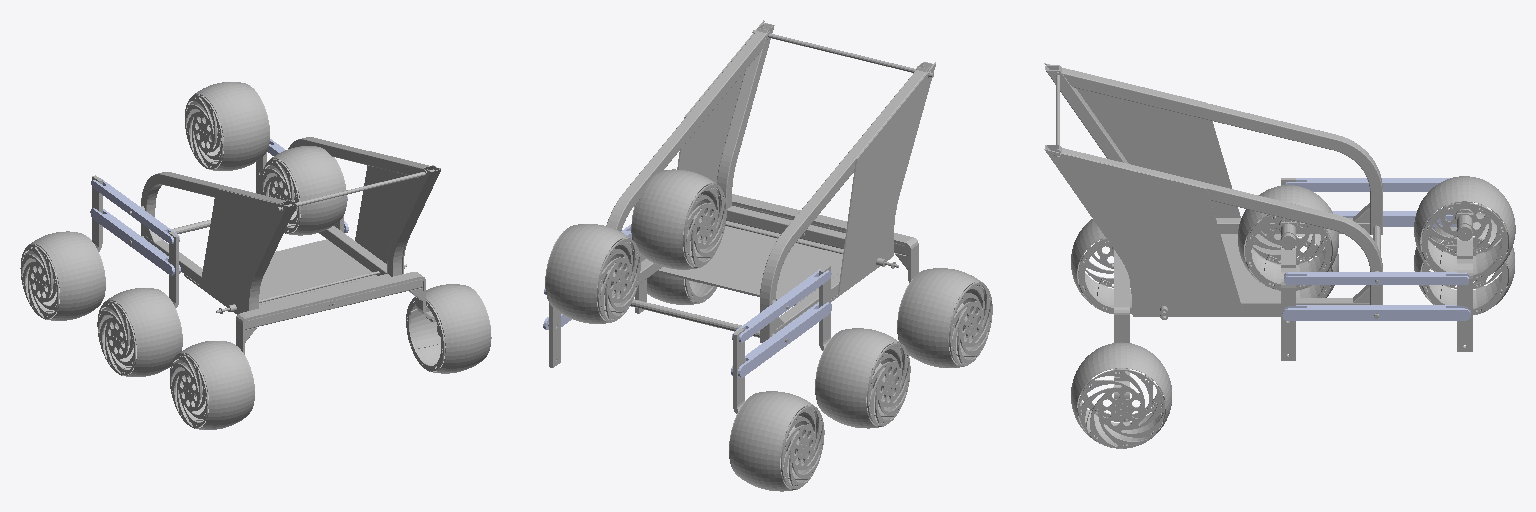
URDF robot description (rmc_simulation):
<robot
  name="rmc_simulation">
  <link
    name="base_link">
    <inertial>
      <origin
        xyz="0.0718949334793627 -0.601542299438927 0.318447910771171"
        rpy="0 0 0" />
      <mass
        value="2.92938025647035" />
      <inertia
        ixx="0.148284038285749"
        ixy="7.06981150223383E-05"
        ixz="-1.1635087974078E-05"
        iyy="0.131065614800033"
        iyz="-0.0298492505471701"
        izz="0.188823271201836" />
    </inertial>
    <visual>
      <origin
        xyz="0 0 0"
        rpy="0 0 0" />
      <geometry>
        <mesh
          filename="package://rmc_simulation/meshes/base_link.STL" />
      </geometry>
      <material
        name="">
        <color
          rgba="0.752941176470588 0.752941176470588 0.752941176470588 1" />
      </material>
    </visual>
    <collision>
      <origin
        xyz="0 0 0"
        rpy="0 0 0" />
      <geometry>
        <mesh
          filename="package://rmc_simulation/meshes/base_link.STL" />
      </geometry>
    </collision>
  </link>
  <link
    name="right_top_link">
    <inertial>
      <origin
        xyz="0.0111125 0 -5.55111512312578E-17"
        rpy="0 0 0" />
      <mass
        value="0.140248807038419" />
      <inertia
        ixx="0.0013793844509538"
        ixy="-1.37422248113498E-22"
        ixz="-1.0229964394016E-20"
        iyy="0.00138147619717869"
        iyz="2.9555073229172E-21"
        izz="1.05253601903843E-05" />
    </inertial>
    <visual>
      <origin
        xyz="0 0 0"
        rpy="0 0 0" />
      <geometry>
        <mesh
          filename="package://rmc_simulation/meshes/right_top_link.STL" />
      </geometry>
      <material
        name="">
        <color
          rgba="0.792156862745098 0.819607843137255 0.933333333333333 1" />
      </material>
    </visual>
    <collision>
      <origin
        xyz="0 0 0"
        rpy="0 0 0" />
      <geometry>
        <mesh
          filename="package://rmc_simulation/meshes/right_top_link.STL" />
      </geometry>
    </collision>
  </link>
  <joint
    name="right_top_joint"
    type="continuous">
    <origin
      xyz="0.284580691374717 -0.255807756916524 0.293855987376602"
      rpy="1.5707963267949 0 0" />
    <parent
      link="base_link" />
    <child
      link="right_top_link" />
    <axis
      xyz="-1 0 0" />
  </joint>
  <link
    name="right_bot_link">
    <inertial>
      <origin
        xyz="0.0111125 2.77555756156289E-17 0"
        rpy="0 0 0" />
      <mass
        value="0.188515035012426" />
      <inertia
        ixx="0.00191750304531622"
        ixy="-7.07169104051599E-22"
        ixz="-9.82756479552797E-21"
        iyy="0.00191593922101045"
        iyz="-2.59045677249677E-07"
        izz="1.85554120830071E-05" />
    </inertial>
    <visual>
      <origin
        xyz="0 0 0"
        rpy="0 0 0" />
      <geometry>
        <mesh
          filename="package://rmc_simulation/meshes/right_bot_link.STL" />
      </geometry>
      <material
        name="">
        <color
          rgba="0.792156862745098 0.819607843137255 0.933333333333333 1" />
      </material>
    </visual>
    <collision>
      <origin
        xyz="0 0 0"
        rpy="0 0 0" />
      <geometry>
        <mesh
          filename="package://rmc_simulation/meshes/right_bot_link.STL" />
      </geometry>
    </collision>
  </link>
  <joint
    name="right_bot_joint"
    type="continuous">
    <origin
      xyz="0.284580691374717 -0.255807756916524 0.217655987376602"
      rpy="1.5707963267949 0 0" />
    <parent
      link="base_link" />
    <child
      link="right_bot_link" />
    <axis
      xyz="-1 0 0" />
  </joint>
  <link
    name="right_bot_front_link">
    <inertial>
      <origin
        xyz="-4.78510997409254E-05 0.0863040619939952 0.0706954067970946"
        rpy="0 0 0" />
      <mass
        value="0.205851705946841" />
      <inertia
        ixx="0.00120412689390073"
        ixy="-4.21030315945692E-07"
        ixz="-2.31693328808594E-07"
        iyy="0.000482537939948245"
        iyz="0.000461296988031476"
        izz="0.000755248105263728" />
    </inertial>
    <visual>
      <origin
        xyz="0 0 0"
        rpy="0 0 0" />
      <geometry>
        <mesh
          filename="package://rmc_simulation/meshes/right_bot_front_link.STL" />
      </geometry>
      <material
        name="">
        <color
          rgba="0.752941176470588 0.752941176470588 0.752941176470588 1" />
      </material>
    </visual>
    <collision>
      <origin
        xyz="0 0 0"
        rpy="0 0 0" />
      <geometry>
        <mesh
          filename="package://rmc_simulation/meshes/right_bot_front_link.STL" />
      </geometry>
    </collision>
  </link>
  <joint
    name="right_bot_front_joint"
    type="continuous">
    <origin
      xyz="0.00634999999999997 0 -0.1778"
      rpy="0 -1.5707963267949 0" />
    <parent
      link="right_bot_link" />
    <child
      link="right_bot_front_link" />
    <axis
      xyz="0 0 -1" />
  </joint>
  <link
    name="right_front_wheel_link">
    <inertial>
      <origin
        xyz="-7.19148351979726E-12 -0.0807951640907281 -1.95886141418633E-07"
        rpy="0 0 0" />
      <mass
        value="0.687645998614542" />
      <inertia
        ixx="0.00410397321446005"
        ixy="1.9406880771611E-13"
        ixz="1.05931168581396E-14"
        iyy="0.00552463397717715"
        iyz="5.39169464344202E-09"
        izz="0.00410397301758295" />
    </inertial>
    <visual>
      <origin
        xyz="0 0 0"
        rpy="0 0 0" />
      <geometry>
        <mesh
          filename="package://rmc_simulation/meshes/right_front_wheel_link.STL" />
      </geometry>
      <material
        name="">
        <color
          rgba="0.752941176470588 0.752941176470588 0.752941176470588 1" />
      </material>
    </visual>
    <collision>
      <origin
        xyz="0 0 0"
        rpy="0 0 0" />
      <geometry>
        <mesh
          filename="package://rmc_simulation/meshes/right_front_wheel_link.STL" />
      </geometry>
    </collision>
  </link>
  <joint
    name="right_front_wheel_joint"
    type="continuous">
    <origin
      xyz="-7.49910081595945E-05 0.139800709316761 0.0220624999999998"
      rpy="-1.5707963267949 0 -1.56862653893505" />
    <parent
      link="right_bot_front_link" />
    <child
      link="right_front_wheel_link" />
    <axis
      xyz="0 1 0" />
  </joint>
  <link
    name="right_bot_back_link">
    <inertial>
      <origin
        xyz="1.92852696755397E-05 0.0763283477484565 0.0706954067970945"
        rpy="0 0 0" />
      <mass
        value="0.205851705946841" />
      <inertia
        ixx="0.0012041271123401"
        ixy="1.40153636767863E-07"
        ixz="1.27059891569488E-07"
        iyy="0.000482537721508873"
        iyz="0.000461297028718476"
        izz="0.000755248105263728" />
    </inertial>
    <visual>
      <origin
        xyz="0 0 0"
        rpy="0 0 0" />
      <geometry>
        <mesh
          filename="package://rmc_simulation/meshes/right_bot_back_link.STL" />
      </geometry>
      <material
        name="">
        <color
          rgba="0.752941176470588 0.752941176470588 0.752941176470588 1" />
      </material>
    </visual>
    <collision>
      <origin
        xyz="0 0 0"
        rpy="0 0 0" />
      <geometry>
        <mesh
          filename="package://rmc_simulation/meshes/right_bot_back_link.STL" />
      </geometry>
    </collision>
  </link>
  <joint
    name="right_bot_back_link"
    type="continuous">
    <origin
      xyz="0.00635000000000019 -0.0100242746459153 0.177799998342918"
      rpy="0 -1.5707963267949 0" />
    <parent
      link="right_bot_link" />
    <child
      link="right_bot_back_link" />
    <axis
      xyz="0 0 -1" />
  </joint>
  <link
    name="right_mid_wheel_link">
    <inertial>
      <origin
        xyz="-7.30705773666074E-12 -0.080795164091348 -1.95886142140278E-07"
        rpy="0 0 0" />
      <mass
        value="0.687645998625396" />
      <inertia
        ixx="0.00410397321447679"
        ixy="1.97149247814043E-13"
        ixz="1.06927135331766E-14"
        iyy="0.00552463397717738"
        iyz="5.39169467314103E-09"
        izz="0.00410397301759993" />
    </inertial>
    <visual>
      <origin
        xyz="0 0 0"
        rpy="0 0 0" />
      <geometry>
        <mesh
          filename="package://rmc_simulation/meshes/right_mid_wheel_link.STL" />
      </geometry>
      <material
        name="">
        <color
          rgba="0.752941176470588 0.752941176470588 0.752941176470588 1" />
      </material>
    </visual>
    <collision>
      <origin
        xyz="0 0 0"
        rpy="0 0 0" />
      <geometry>
        <mesh
          filename="package://rmc_simulation/meshes/right_mid_wheel_link.STL" />
      </geometry>
    </collision>
  </link>
  <joint
    name="right_mid_wheel_link"
    type="continuous">
    <origin
      xyz="3.37499999999435E-05 0.129825 0.0220624999999998"
      rpy="-1.5707963267949 0 -1.5707963267949" />
    <parent
      link="right_bot_back_link" />
    <child
      link="right_mid_wheel_link" />
    <axis
      xyz="0 1 0" />
  </joint>
  <link
    name="left_top_link">
    <inertial>
      <origin
        xyz="-0.0111125 -5.55111512312578E-17 0"
        rpy="0 0 0" />
      <mass
        value="0.140248807038419" />
      <inertia
        ixx="0.0013793844509538"
        ixy="-1.28023408403359E-22"
        ixz="7.25850987515281E-21"
        iyy="0.00138147619717869"
        iyz="4.32209407936441E-22"
        izz="1.05253601903843E-05" />
    </inertial>
    <visual>
      <origin
        xyz="0 0 0"
        rpy="0 0 0" />
      <geometry>
        <mesh
          filename="package://rmc_simulation/meshes/left_top_link.STL" />
      </geometry>
      <material
        name="">
        <color
          rgba="0.792156862745098 0.819607843137255 0.933333333333333 1" />
      </material>
    </visual>
    <collision>
      <origin
        xyz="0 0 0"
        rpy="0 0 0" />
      <geometry>
        <mesh
          filename="package://rmc_simulation/meshes/left_top_link.STL" />
      </geometry>
    </collision>
  </link>
  <joint
    name="left_top_joint"
    type="continuous">
    <origin
      xyz="-0.140869308625283 -0.255807756916524 0.293855987376602"
      rpy="1.5707963267949 0 0" />
    <parent
      link="base_link" />
    <child
      link="left_top_link" />
    <axis
      xyz="-1 0 0" />
  </joint>
  <link
    name="left_bot_link">
    <inertial>
      <origin
        xyz="-0.0111125 -2.77555756156289E-17 0"
        rpy="0 0 0" />
      <mass
        value="0.188515035012425" />
      <inertia
        ixx="0.00191750304531621"
        ixy="4.77528354719375E-22"
        ixz="1.41434929247504E-20"
        iyy="0.00191593925637738"
        iyz="4.20246699851112E-21"
        izz="1.85553767160658E-05" />
    </inertial>
    <visual>
      <origin
        xyz="0 0 0"
        rpy="0 0 0" />
      <geometry>
        <mesh
          filename="package://rmc_simulation/meshes/left_bot_link.STL" />
      </geometry>
      <material
        name="">
        <color
          rgba="0.792156862745098 0.819607843137255 0.933333333333333 1" />
      </material>
    </visual>
    <collision>
      <origin
        xyz="0 0 0"
        rpy="0 0 0" />
      <geometry>
        <mesh
          filename="package://rmc_simulation/meshes/left_bot_link.STL" />
      </geometry>
    </collision>
  </link>
  <joint
    name="left_bot_joint"
    type="continuous">
    <origin
      xyz="-0.140869308625283 -0.255807756916524 0.217655987376601"
      rpy="1.5707963267949 0 0" />
    <parent
      link="base_link" />
    <child
      link="left_bot_link" />
    <axis
      xyz="-1 0 0" />
  </joint>
  <link
    name="left_bot_front_link">
    <inertial>
      <origin
        xyz="1.92852696755674E-05 -0.0863283477484565 -0.0706954067970945"
        rpy="0 0 0" />
      <mass
        value="0.205851705946841" />
      <inertia
        ixx="0.0012041271123401"
        ixy="-1.40153636768476E-07"
        ixz="-1.27059891570206E-07"
        iyy="0.000482537721508874"
        iyz="0.000461297028718476"
        izz="0.000755248105263727" />
    </inertial>
    <visual>
      <origin
        xyz="0 0 0"
        rpy="0 0 0" />
      <geometry>
        <mesh
          filename="package://rmc_simulation/meshes/left_bot_front_link.STL" />
      </geometry>
      <material
        name="">
        <color
          rgba="0.752941176470588 0.752941176470588 0.752941176470588 1" />
      </material>
    </visual>
    <collision>
      <origin
        xyz="0 0 0"
        rpy="0 0 0" />
      <geometry>
        <mesh
          filename="package://rmc_simulation/meshes/left_bot_front_link.STL" />
      </geometry>
    </collision>
  </link>
  <joint
    name="left_bot_front_joiny"
    type="continuous">
    <origin
      xyz="-0.00634999999999999 0 -0.1778"
      rpy="0 1.5707963267949 0" />
    <parent
      link="left_bot_link" />
    <child
      link="left_bot_front_link" />
    <axis
      xyz="0 0 -1" />
  </joint>
  <link
    name="left_front_wheel_link">
    <inertial>
      <origin
        xyz="-7.30697446993389E-12 -0.0707951640913485 -1.95886142154156E-07"
        rpy="0 0 0" />
      <mass
        value="0.687645998625407" />
      <inertia
        ixx="0.00410397321447676"
        ixy="1.97154492642053E-13"
        ixz="1.06920765644003E-14"
        iyy="0.00552463397717734"
        iyz="5.39169467474277E-09"
        izz="0.0041039730175999" />
    </inertial>
    <visual>
      <origin
        xyz="0 0 0"
        rpy="0 0 0" />
      <geometry>
        <mesh
          filename="package://rmc_simulation/meshes/left_front_wheel_link.STL" />
      </geometry>
      <material
        name="">
        <color
          rgba="0.752941176470588 0.752941176470588 0.752941176470588 1" />
      </material>
    </visual>
    <collision>
      <origin
        xyz="0 0 0"
        rpy="0 0 0" />
      <geometry>
        <mesh
          filename="package://rmc_simulation/meshes/left_front_wheel_link.STL" />
      </geometry>
    </collision>
  </link>
  <joint
    name="left_front_wheel_joint"
    type="continuous">
    <origin
      xyz="3.37500000000129E-05 -0.139825 -0.0320624999999999"
      rpy="1.5707963267949 0 -1.5707963267949" />
    <parent
      link="left_bot_front_link" />
    <child
      link="left_front_wheel_link" />
    <axis
      xyz="0 -1 0" />
  </joint>
  <link
    name="left_bot_back_link">
    <inertial>
      <origin
        xyz="1.92852696753731E-05 -0.0863283477484563 -0.0548204067970946"
        rpy="0 0 0" />
      <mass
        value="0.205851705946841" />
      <inertia
        ixx="0.0012041271123401"
        ixy="-1.40153636768493E-07"
        ixz="-1.27059891570303E-07"
        iyy="0.000482537721508874"
        iyz="0.000461297028718476"
        izz="0.000755248105263727" />
    </inertial>
    <visual>
      <origin
        xyz="0 0 0"
        rpy="0 0 0" />
      <geometry>
        <mesh
          filename="package://rmc_simulation/meshes/left_bot_back_link.STL" />
      </geometry>
      <material
        name="">
        <color
          rgba="0.752941176470588 0.752941176470588 0.752941176470588 1" />
      </material>
    </visual>
    <collision>
      <origin
        xyz="0 0 0"
        rpy="0 0 0" />
      <geometry>
        <mesh
          filename="package://rmc_simulation/meshes/left_bot_back_link.STL" />
      </geometry>
    </collision>
  </link>
  <joint
    name="left_bot_back_joint"
    type="continuous">
    <origin
      xyz="-0.022225 0 0.1778"
      rpy="0 1.5707963267949 0" />
    <parent
      link="left_bot_link" />
    <child
      link="left_bot_back_link" />
    <axis
      xyz="0 0 -1" />
  </joint>
  <link
    name="left_mid_wheel_link">
    <inertial>
      <origin
        xyz="-7.30700222550951E-12 -0.0707951640913484 -1.958861422513E-07"
        rpy="0 0 0" />
      <mass
        value="0.687645998625407" />
      <inertia
        ixx="0.00410397321447676"
        ixy="1.97154431655681E-13"
        ixz="1.06915751208955E-14"
        iyy="0.00552463397717734"
        iyz="5.39169467347561E-09"
        izz="0.0041039730175999" />
    </inertial>
    <visual>
      <origin
        xyz="0 0 0"
        rpy="0 0 0" />
      <geometry>
        <mesh
          filename="package://rmc_simulation/meshes/left_mid_wheel_link.STL" />
      </geometry>
      <material
        name="">
        <color
          rgba="0.752941176470588 0.752941176470588 0.752941176470588 1" />
      </material>
    </visual>
    <collision>
      <origin
        xyz="0 0 0"
        rpy="0 0 0" />
      <geometry>
        <mesh
          filename="package://rmc_simulation/meshes/left_mid_wheel_link.STL" />
      </geometry>
    </collision>
  </link>
  <joint
    name="left_mid_wheel_joint"
    type="continuous">
    <origin
      xyz="3.37499999999991E-05 -0.139825 -0.0161874999999997"
      rpy="1.5707963267949 0 -1.5707963267949" />
    <parent
      link="left_bot_back_link" />
    <child
      link="left_mid_wheel_link" />
    <axis
      xyz="0 -1 0" />
  </joint>
  <link
    name="rear_rocker_link">
    <inertial>
      <origin
        xyz="0.000471476921990954 -0.0411045723457843 0.0167424675311085"
        rpy="0 0 0" />
      <mass
        value="0.807447449120922" />
      <inertia
        ixx="0.00288385629063271"
        ixy="-1.83210203696015E-05"
        ixz="-8.95562507782881E-08"
        iyy="0.0397756072740224"
        iyz="3.0326788227366E-06"
        izz="0.0425282327121755" />
    </inertial>
    <visual>
      <origin
        xyz="0 0 0"
        rpy="0 0 0" />
      <geometry>
        <mesh
          filename="package://rmc_simulation/meshes/rear_rocker_link.STL" />
      </geometry>
      <material
        name="">
        <color
          rgba="0.752941176470588 0.752941176470588 0.752941176470588 1" />
      </material>
    </visual>
    <collision>
      <origin
        xyz="0 0 0"
        rpy="0 0 0" />
      <geometry>
        <mesh
          filename="package://rmc_simulation/meshes/rear_rocker_link.STL" />
      </geometry>
    </collision>
  </link>
  <joint
    name="rear_rocker_joint"
    type="continuous">
    <origin
      xyz="0.0718556913747171 -0.753476605505062 0.217655987376602"
      rpy="1.5707963267949 0.00495690235833587 -3.03515192047388E-19" />
    <parent
      link="base_link" />
    <child
      link="rear_rocker_link" />
    <axis
      xyz="0 0 -1" />
  </joint>
  <link
    name="right_back_wheel_link">
    <inertial>
      <origin
        xyz="-2.56872301207522E-12 -0.0707920435844435 -1.95886293075098E-07"
        rpy="0 0 0" />
      <mass
        value="0.687645998094418" />
      <inertia
        ixx="0.00410397321363925"
        ixy="7.41435784989461E-14"
        ixz="7.32562881883281E-15"
        iyy="0.00552463397716753"
        iyz="5.39170125791232E-09"
        izz="0.00410397301675641" />
    </inertial>
    <visual>
      <origin
        xyz="0 0 0"
        rpy="0 0 0" />
      <geometry>
        <mesh
          filename="package://rmc_simulation/meshes/right_back_wheel_link.STL" />
      </geometry>
      <material
        name="">
        <color
          rgba="0.752941176470588 0.752941176470588 0.752941176470588 1" />
      </material>
    </visual>
    <collision>
      <origin
        xyz="0 0 0"
        rpy="0 0 0" />
      <geometry>
        <mesh
          filename="package://rmc_simulation/meshes/right_back_wheel_link.STL" />
      </geometry>
    </collision>
  </link>
  <joint
    name="right_back_wheel_joint"
    type="continuous">
    <origin
      xyz="0.252042320476328 -0.1397615 0.0166474014114616"
      rpy="0 -0.453755397525004 1.5707963267949" />
    <parent
      link="rear_rocker_link" />
    <child
      link="right_back_wheel_link" />
    <axis
      xyz="0 1 0" />
  </joint>
  <link
    name="left_back_wheel_link">
    <inertial>
      <origin
        xyz="-7.71942232358214E-12 -0.0707920436121964 -1.95886686871205E-07"
        rpy="0 0 0" />
      <mass
        value="0.687645998581504" />
      <inertia
        ixx="0.00410397321438875"
        ixy="2.09611018456681E-13"
        ixz="1.05877664993518E-14"
        iyy="0.00552463397717643"
        iyz="5.39171353774827E-09"
        izz="0.00410397301751382" />
    </inertial>
    <visual>
      <origin
        xyz="0 0 0"
        rpy="0 0 0" />
      <geometry>
        <mesh
          filename="package://rmc_simulation/meshes/left_back_wheel_link.STL" />
      </geometry>
      <material
        name="">
        <color
          rgba="0.752941176470588 0.752941176470588 0.752941176470588 1" />
      </material>
    </visual>
    <collision>
      <origin
        xyz="0 0 0"
        rpy="0 0 0" />
      <geometry>
        <mesh
          filename="package://rmc_simulation/meshes/left_back_wheel_link.STL" />
      </geometry>
    </collision>
  </link>
  <joint
    name="left_back_wheel_joint"
    type="continuous">
    <origin
      xyz="-0.252042320476328 -0.1397615 0.0166474014114617"
      rpy="0 0 -1.5707963267949" />
    <parent
      link="rear_rocker_link" />
    <child
      link="left_back_wheel_link" />
    <axis
      xyz="0 -1 0" />
  </joint>
</robot>

--- Facts derived from the render (not from the file) ---
The picture shows the robot from 3 angles, left to right: view 1: azimuth 30°, elevation 25°; view 2: azimuth 150°, elevation 25°; view 3: azimuth 270°, elevation 25°; orthographic projection.
Model rmc_simulation with 16 links and 15 joints (15 continuous), rooted at base_link, posed every joint at zero.
Visible links, largest first — view 1: base_link, left_back_wheel_link, left_front_wheel_link, right_front_wheel_link, left_mid_wheel_link, right_back_wheel_link, right_mid_wheel_link, rear_rocker_link, left_bot_link, left_top_link, left_bot_back_link, left_bot_front_link; view 2: base_link, right_front_wheel_link, left_front_wheel_link, left_mid_wheel_link, left_back_wheel_link, right_mid_wheel_link, rear_rocker_link, left_bot_link, right_back_wheel_link, left_top_link, left_bot_front_link, right_bot_front_link (+1 smaller); view 3: base_link, right_back_wheel_link, right_front_wheel_link, right_mid_wheel_link, right_bot_link, left_front_wheel_link, left_back_wheel_link, right_top_link, right_bot_front_link, left_top_link, right_bot_back_link, rear_rocker_link (+2 smaller).
Boxes of the visible links, <box> form: base_link: <box>128,137,440,314</box>; left_back_wheel_link: <box>170,341,254,429</box>; left_front_wheel_link: <box>20,231,105,320</box>; right_front_wheel_link: <box>185,82,269,170</box>; left_mid_wheel_link: <box>97,288,182,376</box>; right_back_wheel_link: <box>406,284,491,373</box>; right_mid_wheel_link: <box>262,146,346,235</box>; rear_rocker_link: <box>193,272,444,397</box>; left_bot_link: <box>90,208,180,275</box>; left_top_link: <box>91,178,179,243</box>; left_bot_back_link: <box>121,232,178,344</box>; left_bot_front_link: <box>44,175,102,288</box>; base_link: <box>606,20,935,342</box>; right_front_wheel_link: <box>545,224,640,323</box>; left_front_wheel_link: <box>729,391,824,491</box>; left_mid_wheel_link: <box>815,328,910,428</box>; left_back_wheel_link: <box>897,268,992,367</box>; right_mid_wheel_link: <box>631,169,726,269</box>; rear_rocker_link: <box>732,194,966,329</box>; left_bot_link: <box>731,302,831,377</box>; right_back_wheel_link: <box>647,272,716,304</box>; left_top_link: <box>732,269,831,342</box>; left_bot_front_link: <box>733,328,797,454</box>; right_bot_front_link: <box>549,268,614,367</box>; base_link: <box>1044,63,1382,319</box>; right_back_wheel_link: <box>1071,342,1171,448</box>; right_front_wheel_link: <box>1414,176,1515,281</box>; right_mid_wheel_link: <box>1238,185,1338,290</box>; right_bot_link: <box>1282,305,1470,320</box>; left_front_wheel_link: <box>1414,212,1514,314</box>; left_back_wheel_link: <box>1071,219,1131,313</box>; right_top_link: <box>1284,272,1468,284</box>; right_bot_front_link: <box>1457,213,1472,351</box>; left_top_link: <box>1284,178,1449,191</box>; right_bot_back_link: <box>1281,222,1295,360</box>; rear_rocker_link: <box>1114,250,1129,408</box>.
Size in the robot's own frame: 0.7589 by 0.9502 by 0.5993 metres.
Meshes: 16 distinct files referenced, 16 mesh visuals loaded (16 binary STL).